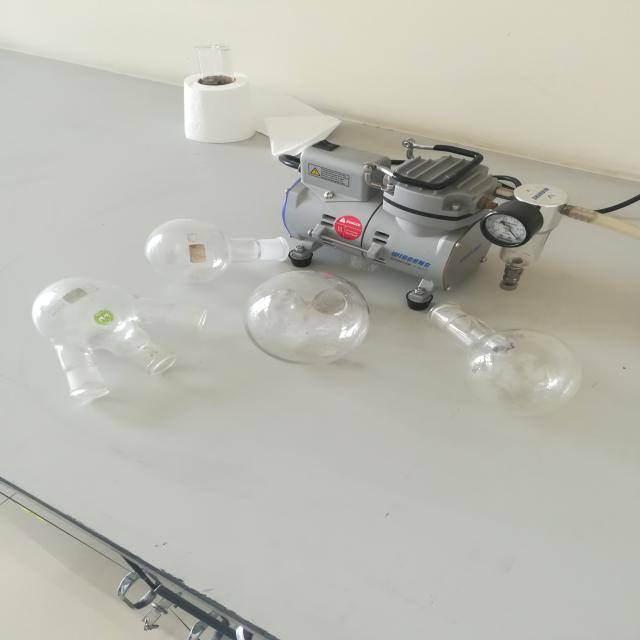Round_Bottom_Flask_Borosilicate_Glass_1_Neck: (398, 273, 602, 440), (117, 198, 330, 290)
Round_Bottom_Flask_Borosilicate_Glass_2_Neck: (222, 234, 394, 377)
Round_Bottom_Flask_Borosilicate_Glass_3_Neck: (28, 268, 227, 426)
